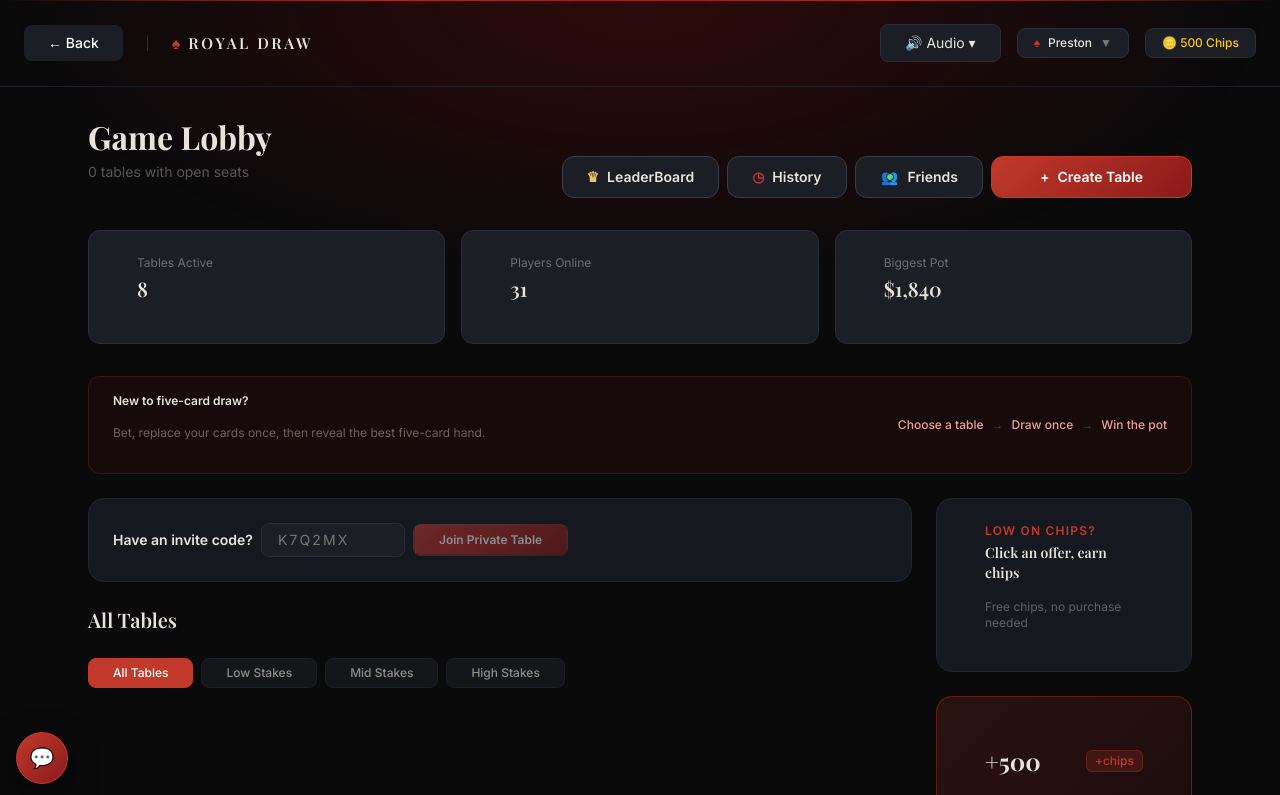
Test: Help in the name menu: chat with an admin (P18) › opens the chat with an admin over the lobby and closes the menu
What coordinates should you click on to do the following:
click the button "♠ Preston ▼"
I would click on:
 (1073, 43)
Its box is [1017,28,1129,58].
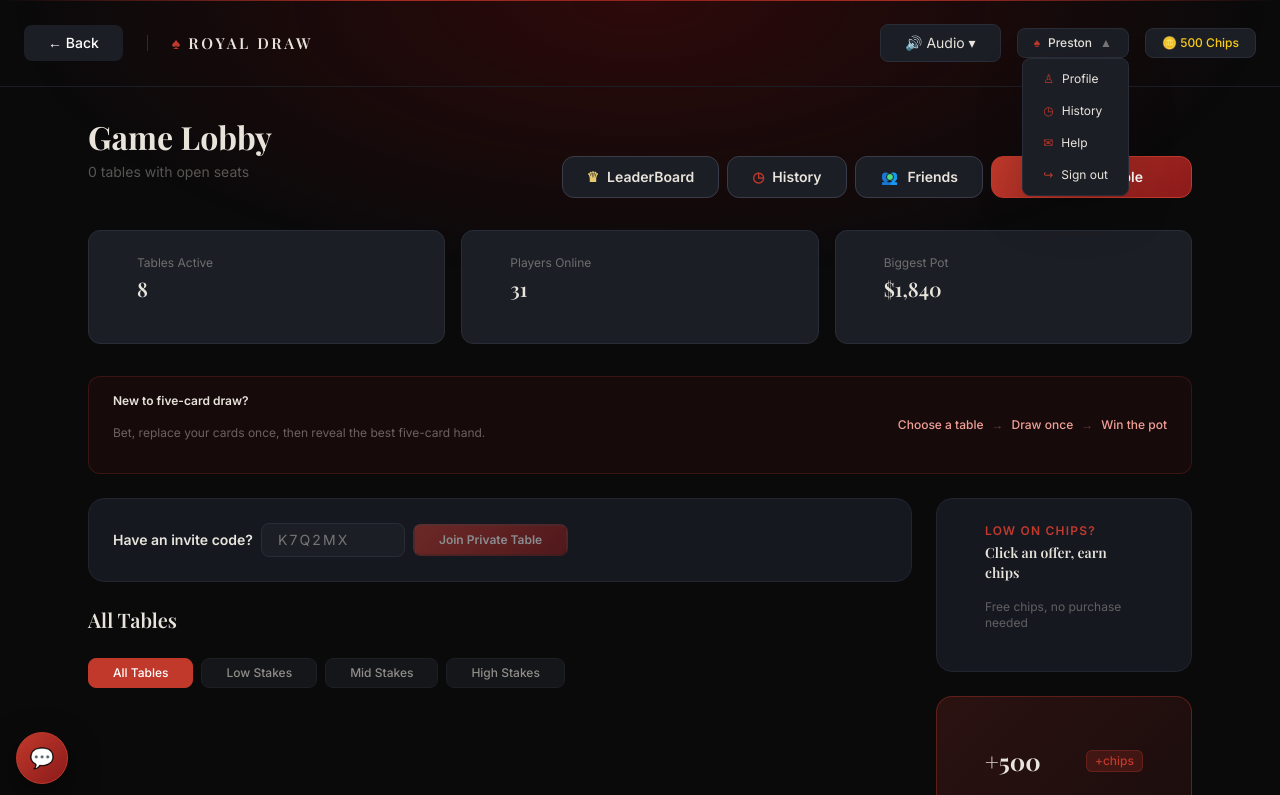
What coordinates should you click on to do the following:
click the menu item "✉ Help"
I would click on:
 (1076, 143)
Its box is [1027,127,1124,159].
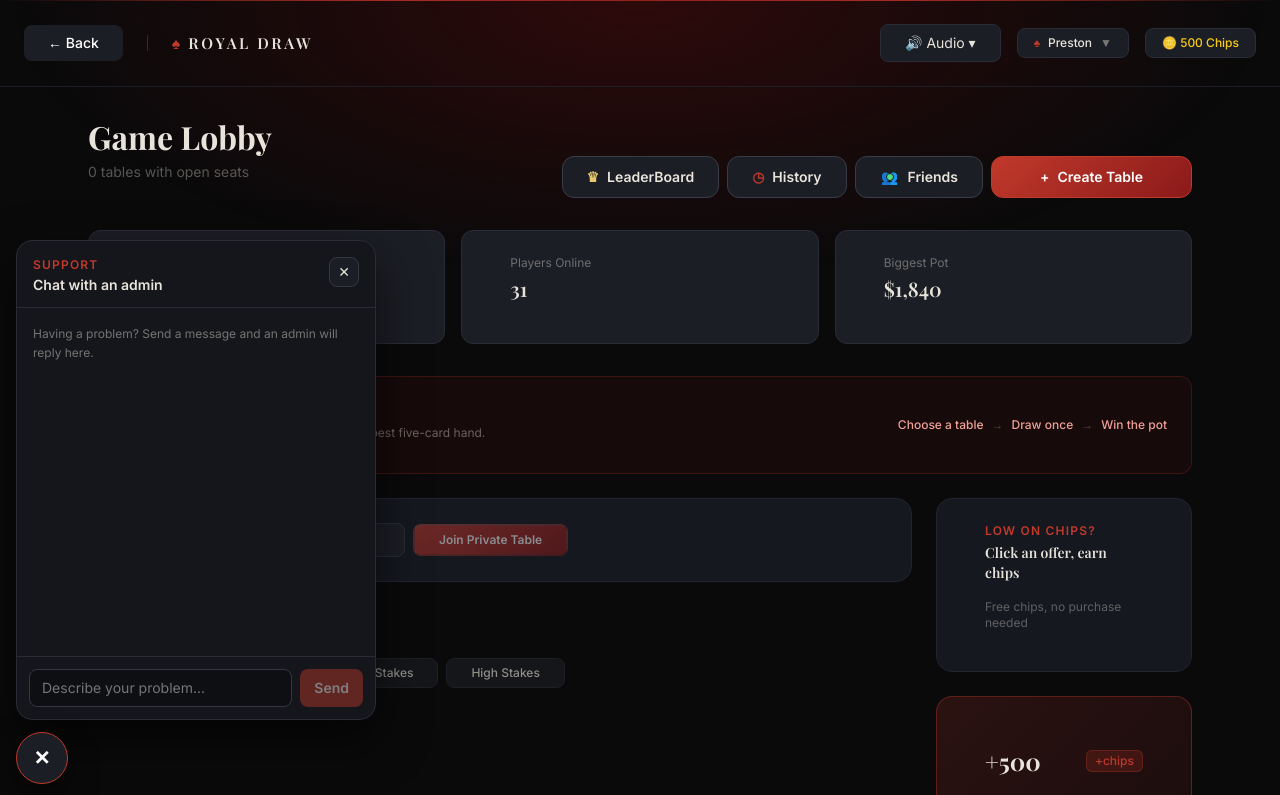
Expected: the heading "Game Lobby" is shown, [88,119,272,154]
Result: the dialog "Chat with an admin" is shown at [16,240,376,720]
Result: the menu is gone
